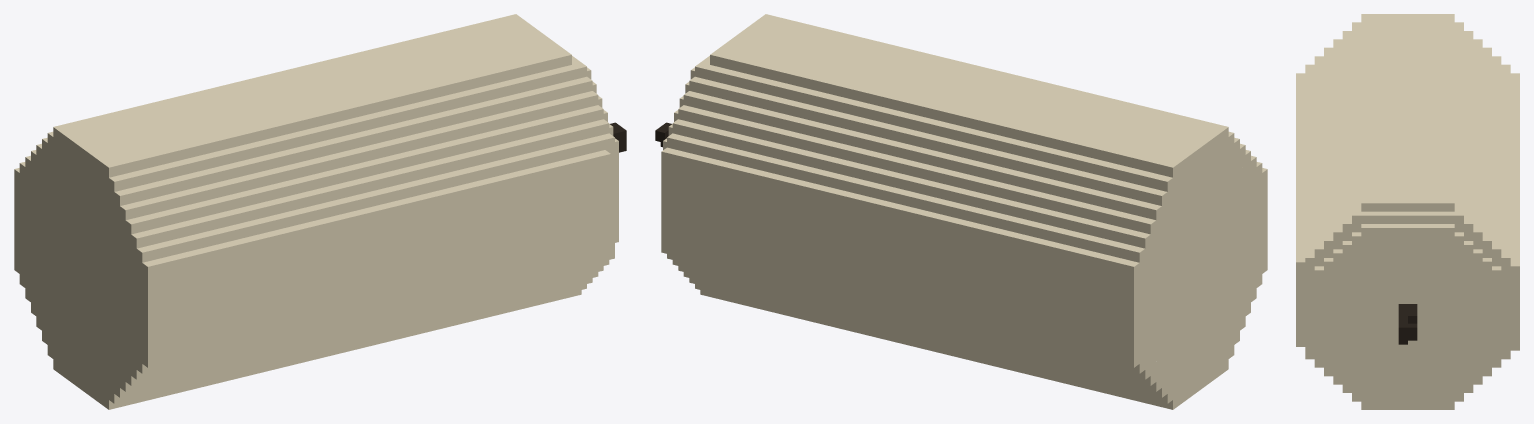
The model's file is candle.glb.
The picture shows the model from 3 angles, left to right: view 1: azimuth 30°, elevation 25°; view 2: azimuth 150°, elevation 25°; view 3: azimuth 270°, elevation 25°; orthographic projection. The views are drawn at different scales.
Parts seen in each view (by area): view 1: candle:candle; view 2: candle:candle; view 3: candle:candle.
Part boxes in pixels (<box>): candle:candle: <box>14,14,626,409</box>; candle:candle: <box>655,14,1267,409</box>; candle:candle: <box>1296,14,1519,409</box>.
Size of the model in its own units: 0.112 by 0.048 by 0.048.
